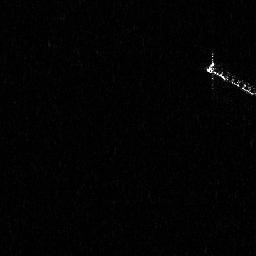ship: (201, 50, 256, 99)
